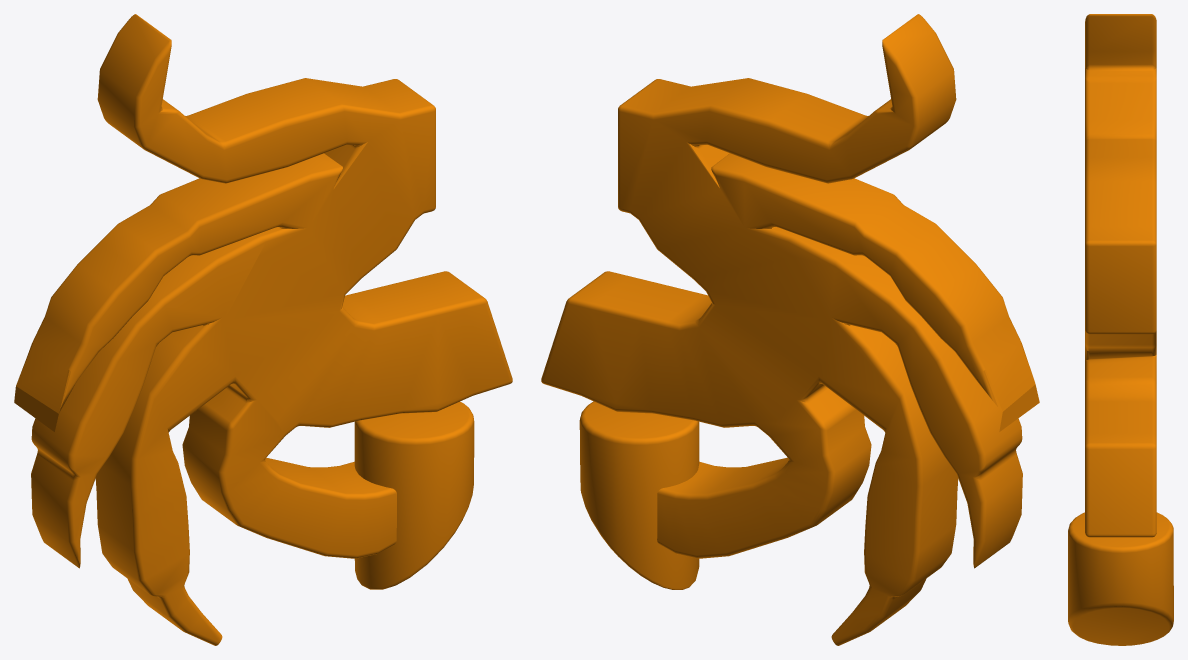
The model's file is Key Split 1.fbx.
The picture shows the model from 3 angles, left to right: view 1: azimuth 30°, elevation 25°; view 2: azimuth 150°, elevation 25°; view 3: azimuth 270°, elevation 25°; orthographic projection. The views are drawn at different scales.
Visible parts, largest first — view 1: Key Loose 1; view 2: Key Loose 1; view 3: Key Loose 1.
Part boxes in pixels (x1=…): Key Loose 1: x1=14, y1=14, x2=512, y2=645; Key Loose 1: x1=541, y1=14, x2=1039, y2=645; Key Loose 1: x1=1068, y1=14, x2=1173, y2=645.
Bounding box in the file's own units: 11.39 × 14.55 × 2.56.
